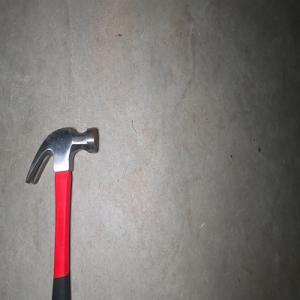Hammer: (24, 126, 99, 300)
